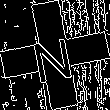N_N: (30, 27, 80, 83)
